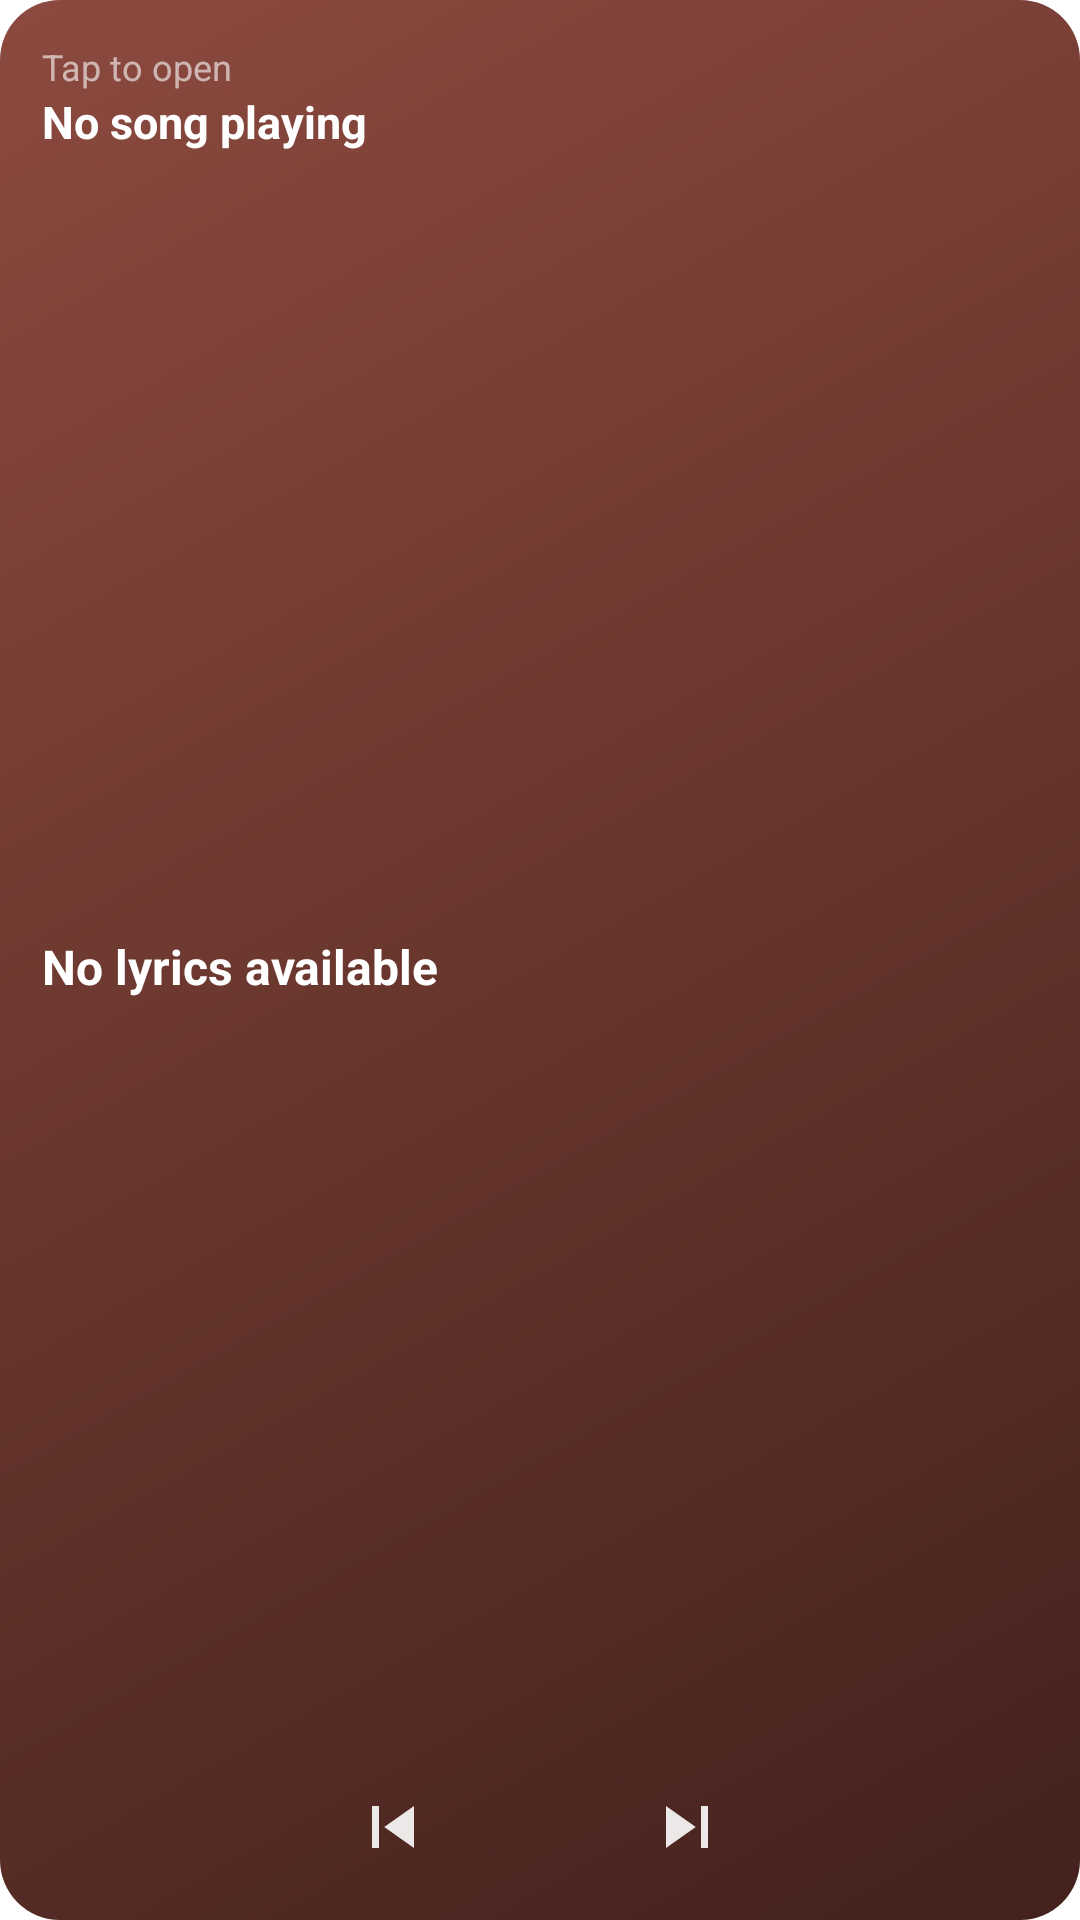

Named icons in this screenshot (1080 x 1920) and their centers, (x=x, y=y):
Next: (x=687, y=1827)
Previous: (x=393, y=1827)
